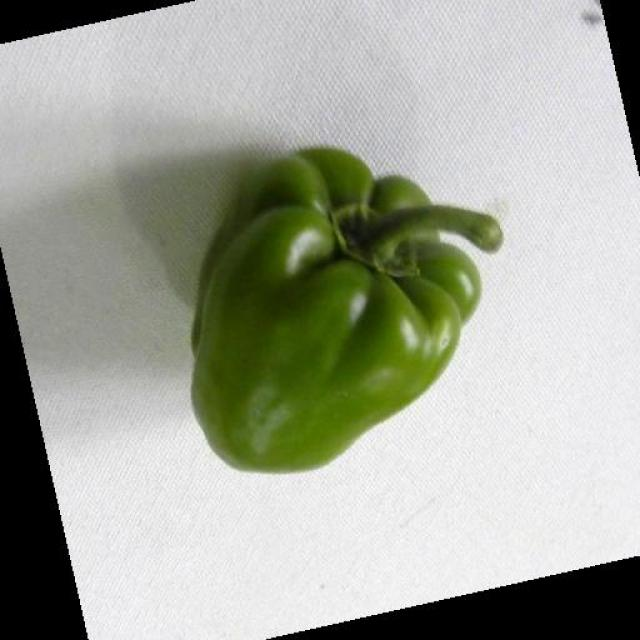Fresh_Capsicum: (175, 160, 475, 452)
